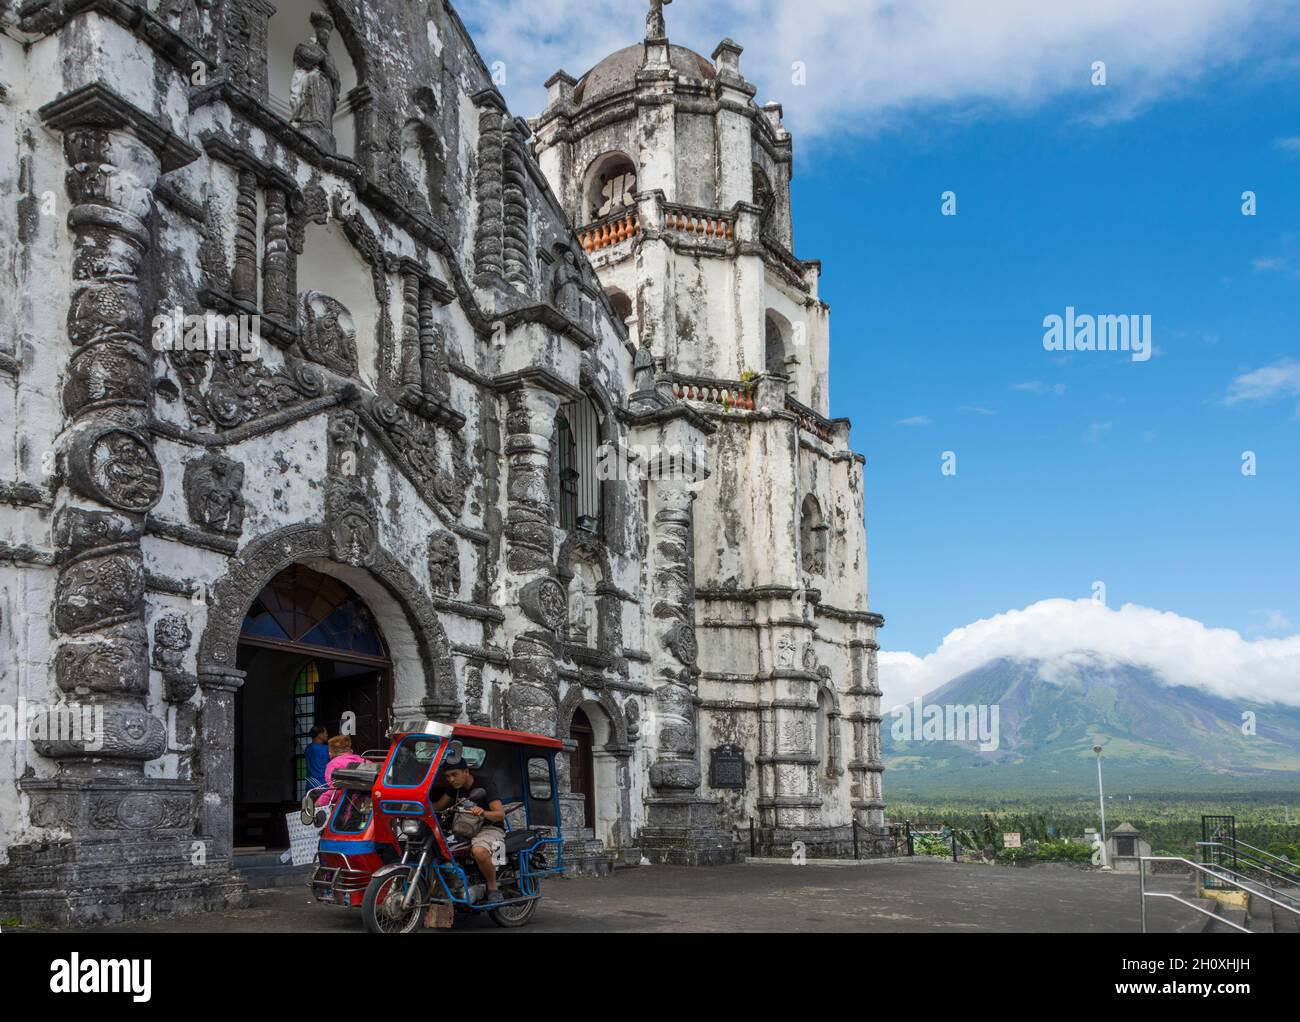daraga_church_daraga_albay: (4, 1, 893, 863)
